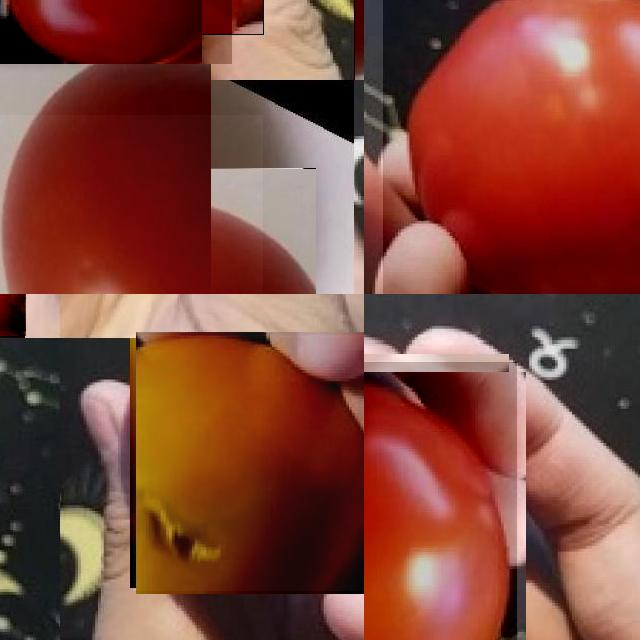Fresh Tomato: (383, 0, 640, 294), (0, 115, 263, 294), (364, 362, 517, 640)
Rotten Tomato: (133, 334, 364, 591)
